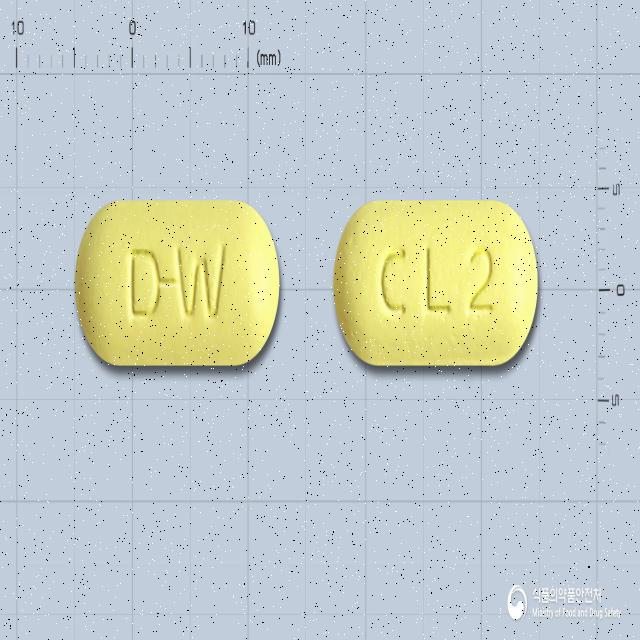Clearmycin - 250mg: (74, 198, 281, 366), (333, 198, 538, 365)
